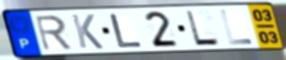2: (144, 10, 182, 48)
K: (69, 13, 106, 51)
L: (183, 9, 223, 47), (218, 9, 255, 46), (109, 12, 145, 49)
R: (33, 14, 75, 52)
